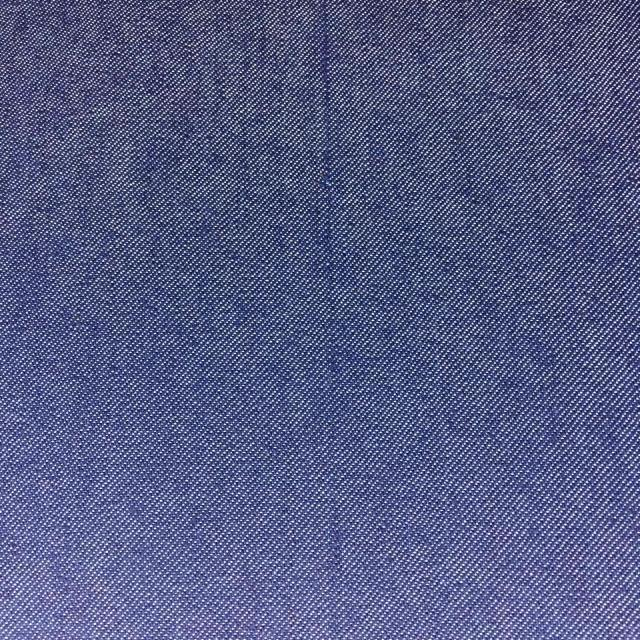Line: (318, 0, 345, 599)
